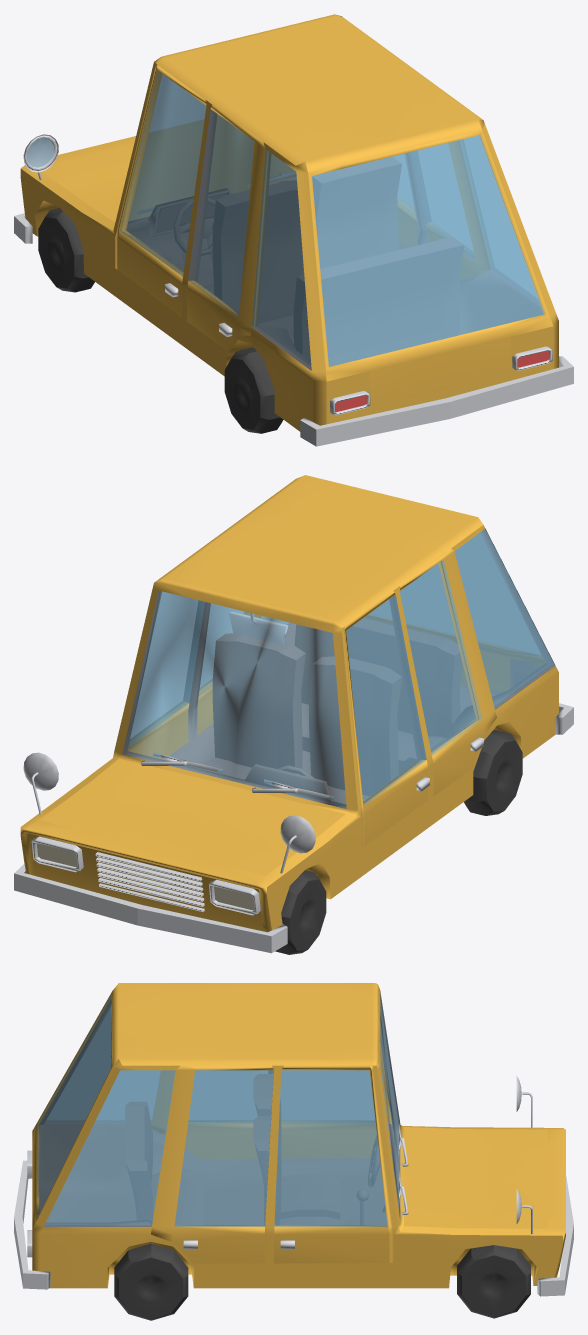
File: KFB_CVP1_estate.glb
3 renders of one model, top to bottom at view 1: azimuth 30°, elevation 25°; view 2: azimuth 150°, elevation 25°; view 3: azimuth 270°, elevation 25°, orthographic. The views are drawn at different scales.
Visible parts, largest first — view 1: CarMesh, WIndow, SeatRear, WindowBack, Trunk, Window.3, Hood, Interior, Window.2, SeatL, SeatR, DoorRL (+11 smaller); view 2: CarMesh, WindowFront, Hood, SeatR, Window.3, SeatL, SeatRear, Interior, Window.2, WindowBack, WIndow, Window.4 (+18 smaller); view 3: CarMesh, Interior, WindowBack, Window.4, Hood, Window, DoorRR, WIndow, DoorFR, Window.3, WheelRR, WheelRR.2 (+10 smaller).
Boxes of the visible parts, x1,y1,x2,y2 form: CarMesh: (20, 14, 558, 431); WIndow: (312, 135, 544, 366); SeatRear: (288, 238, 463, 366); WindowBack: (252, 136, 537, 370); Trunk: (308, 130, 553, 407); Window.3: (120, 70, 206, 276); Hood: (42, 123, 296, 222); Interior: (126, 109, 543, 370); Window.2: (188, 109, 254, 317); SeatL: (204, 180, 301, 323); SeatR: (302, 157, 401, 273); DoorRL: (187, 105, 270, 350); CarMesh: (20, 475, 558, 932); WindowFront: (122, 591, 346, 808); Hood: (39, 758, 345, 875); SeatR: (196, 633, 305, 779); Window.3: (346, 594, 426, 805); SeatL: (309, 656, 401, 804); SeatRear: (294, 618, 462, 773); Interior: (122, 529, 555, 808); Window.2: (400, 559, 482, 755); WindowBack: (261, 529, 554, 708); WIndow: (370, 533, 541, 656); Window.4: (128, 592, 204, 747); CarMesh: (32, 983, 565, 1288); Interior: (40, 992, 400, 1226); WindowBack: (44, 1008, 175, 1226); Window.4: (274, 1070, 387, 1226); Hood: (404, 1127, 547, 1228); Window: (174, 1070, 273, 1226); DoorRR: (151, 1065, 273, 1263); WIndow: (37, 995, 110, 1217); DoorFR: (274, 1065, 393, 1263); Window.3: (280, 1071, 375, 1123); WheelRR: (114, 1243, 188, 1320); WheelRR.2: (457, 1245, 530, 1318).
Size of the model in its own units: 2.18 by 1.96 by 4.04.
